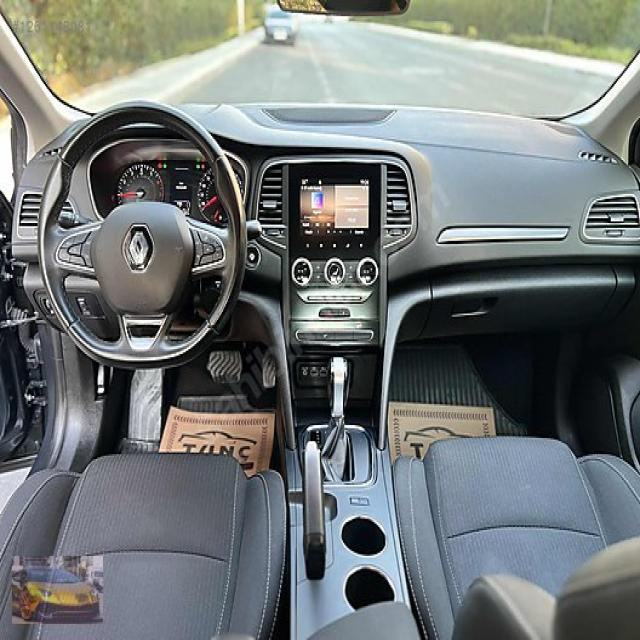renault: (122, 233, 154, 269)
